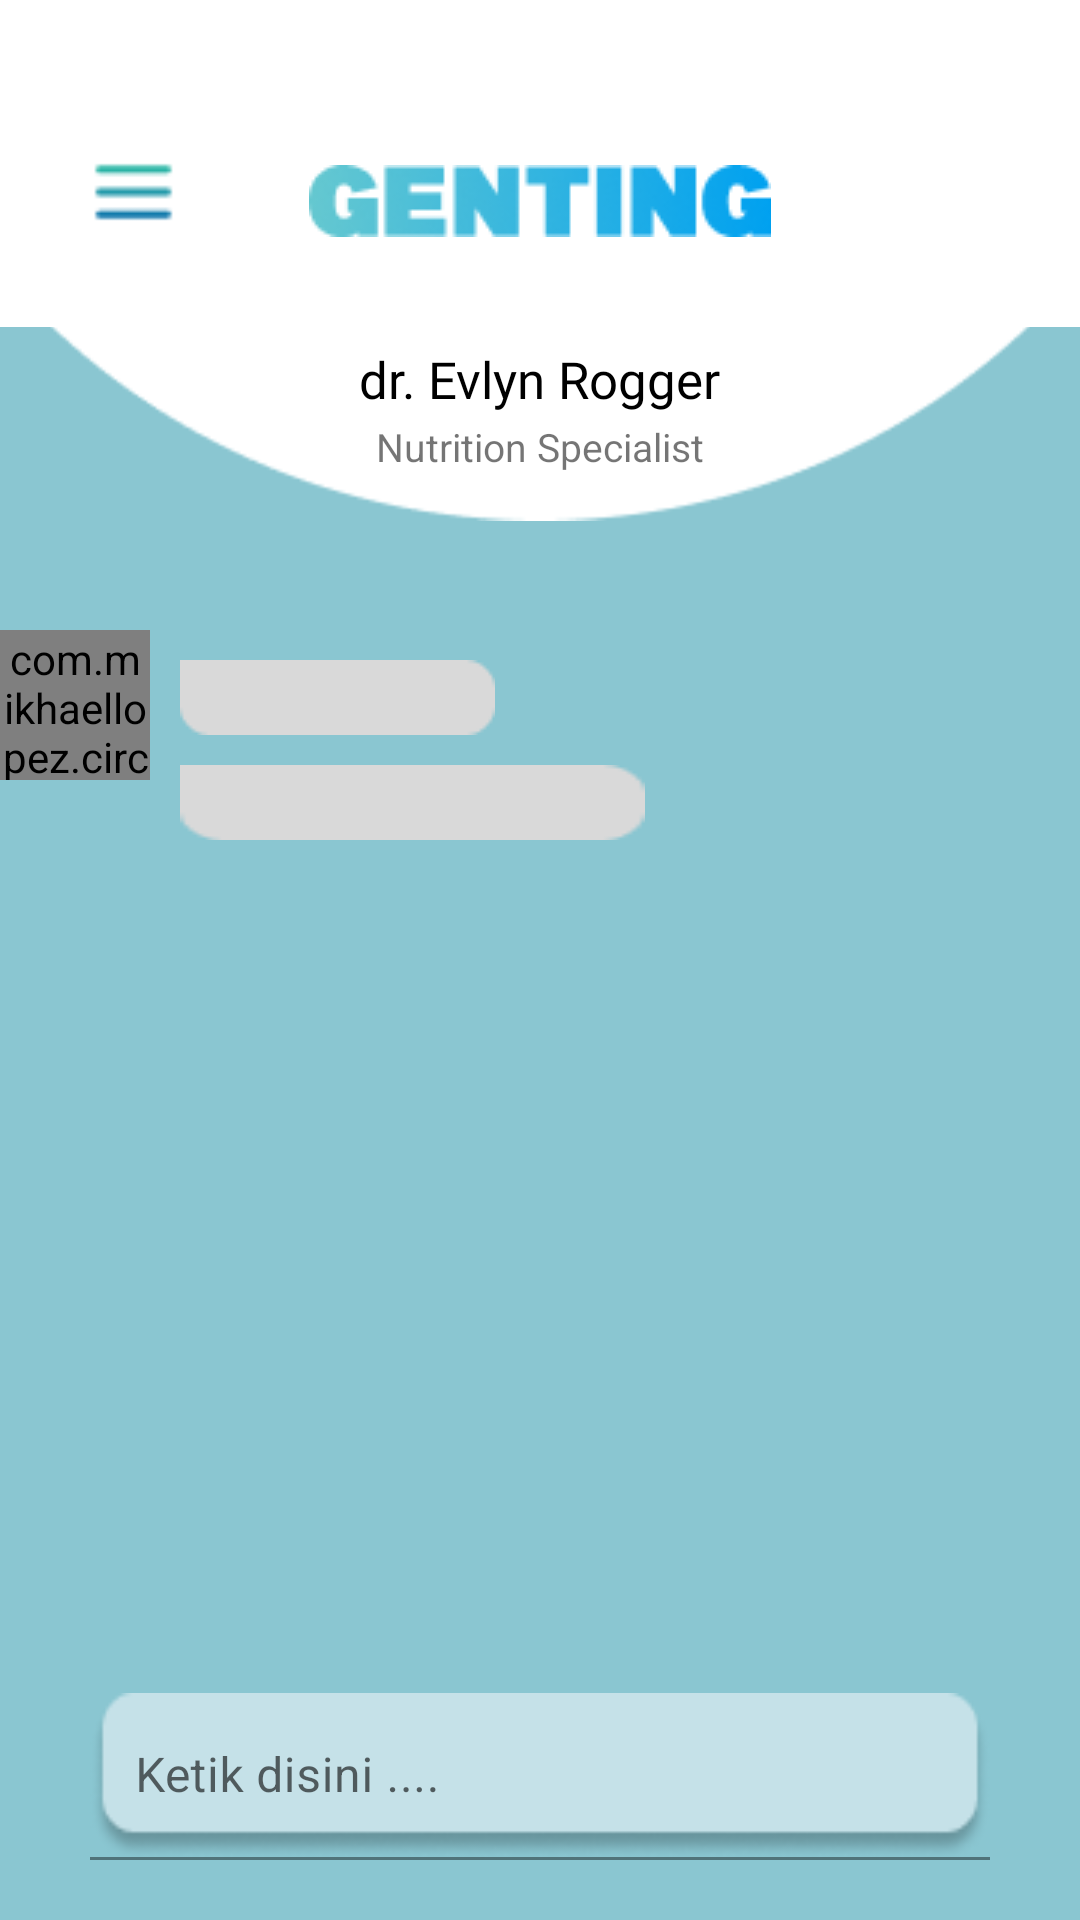

Named icons in this screenshot (1080*1920) and their bounding boxes, detection(x1, y1, x2, y2):
strip menu: detection(94, 164, 173, 220)
